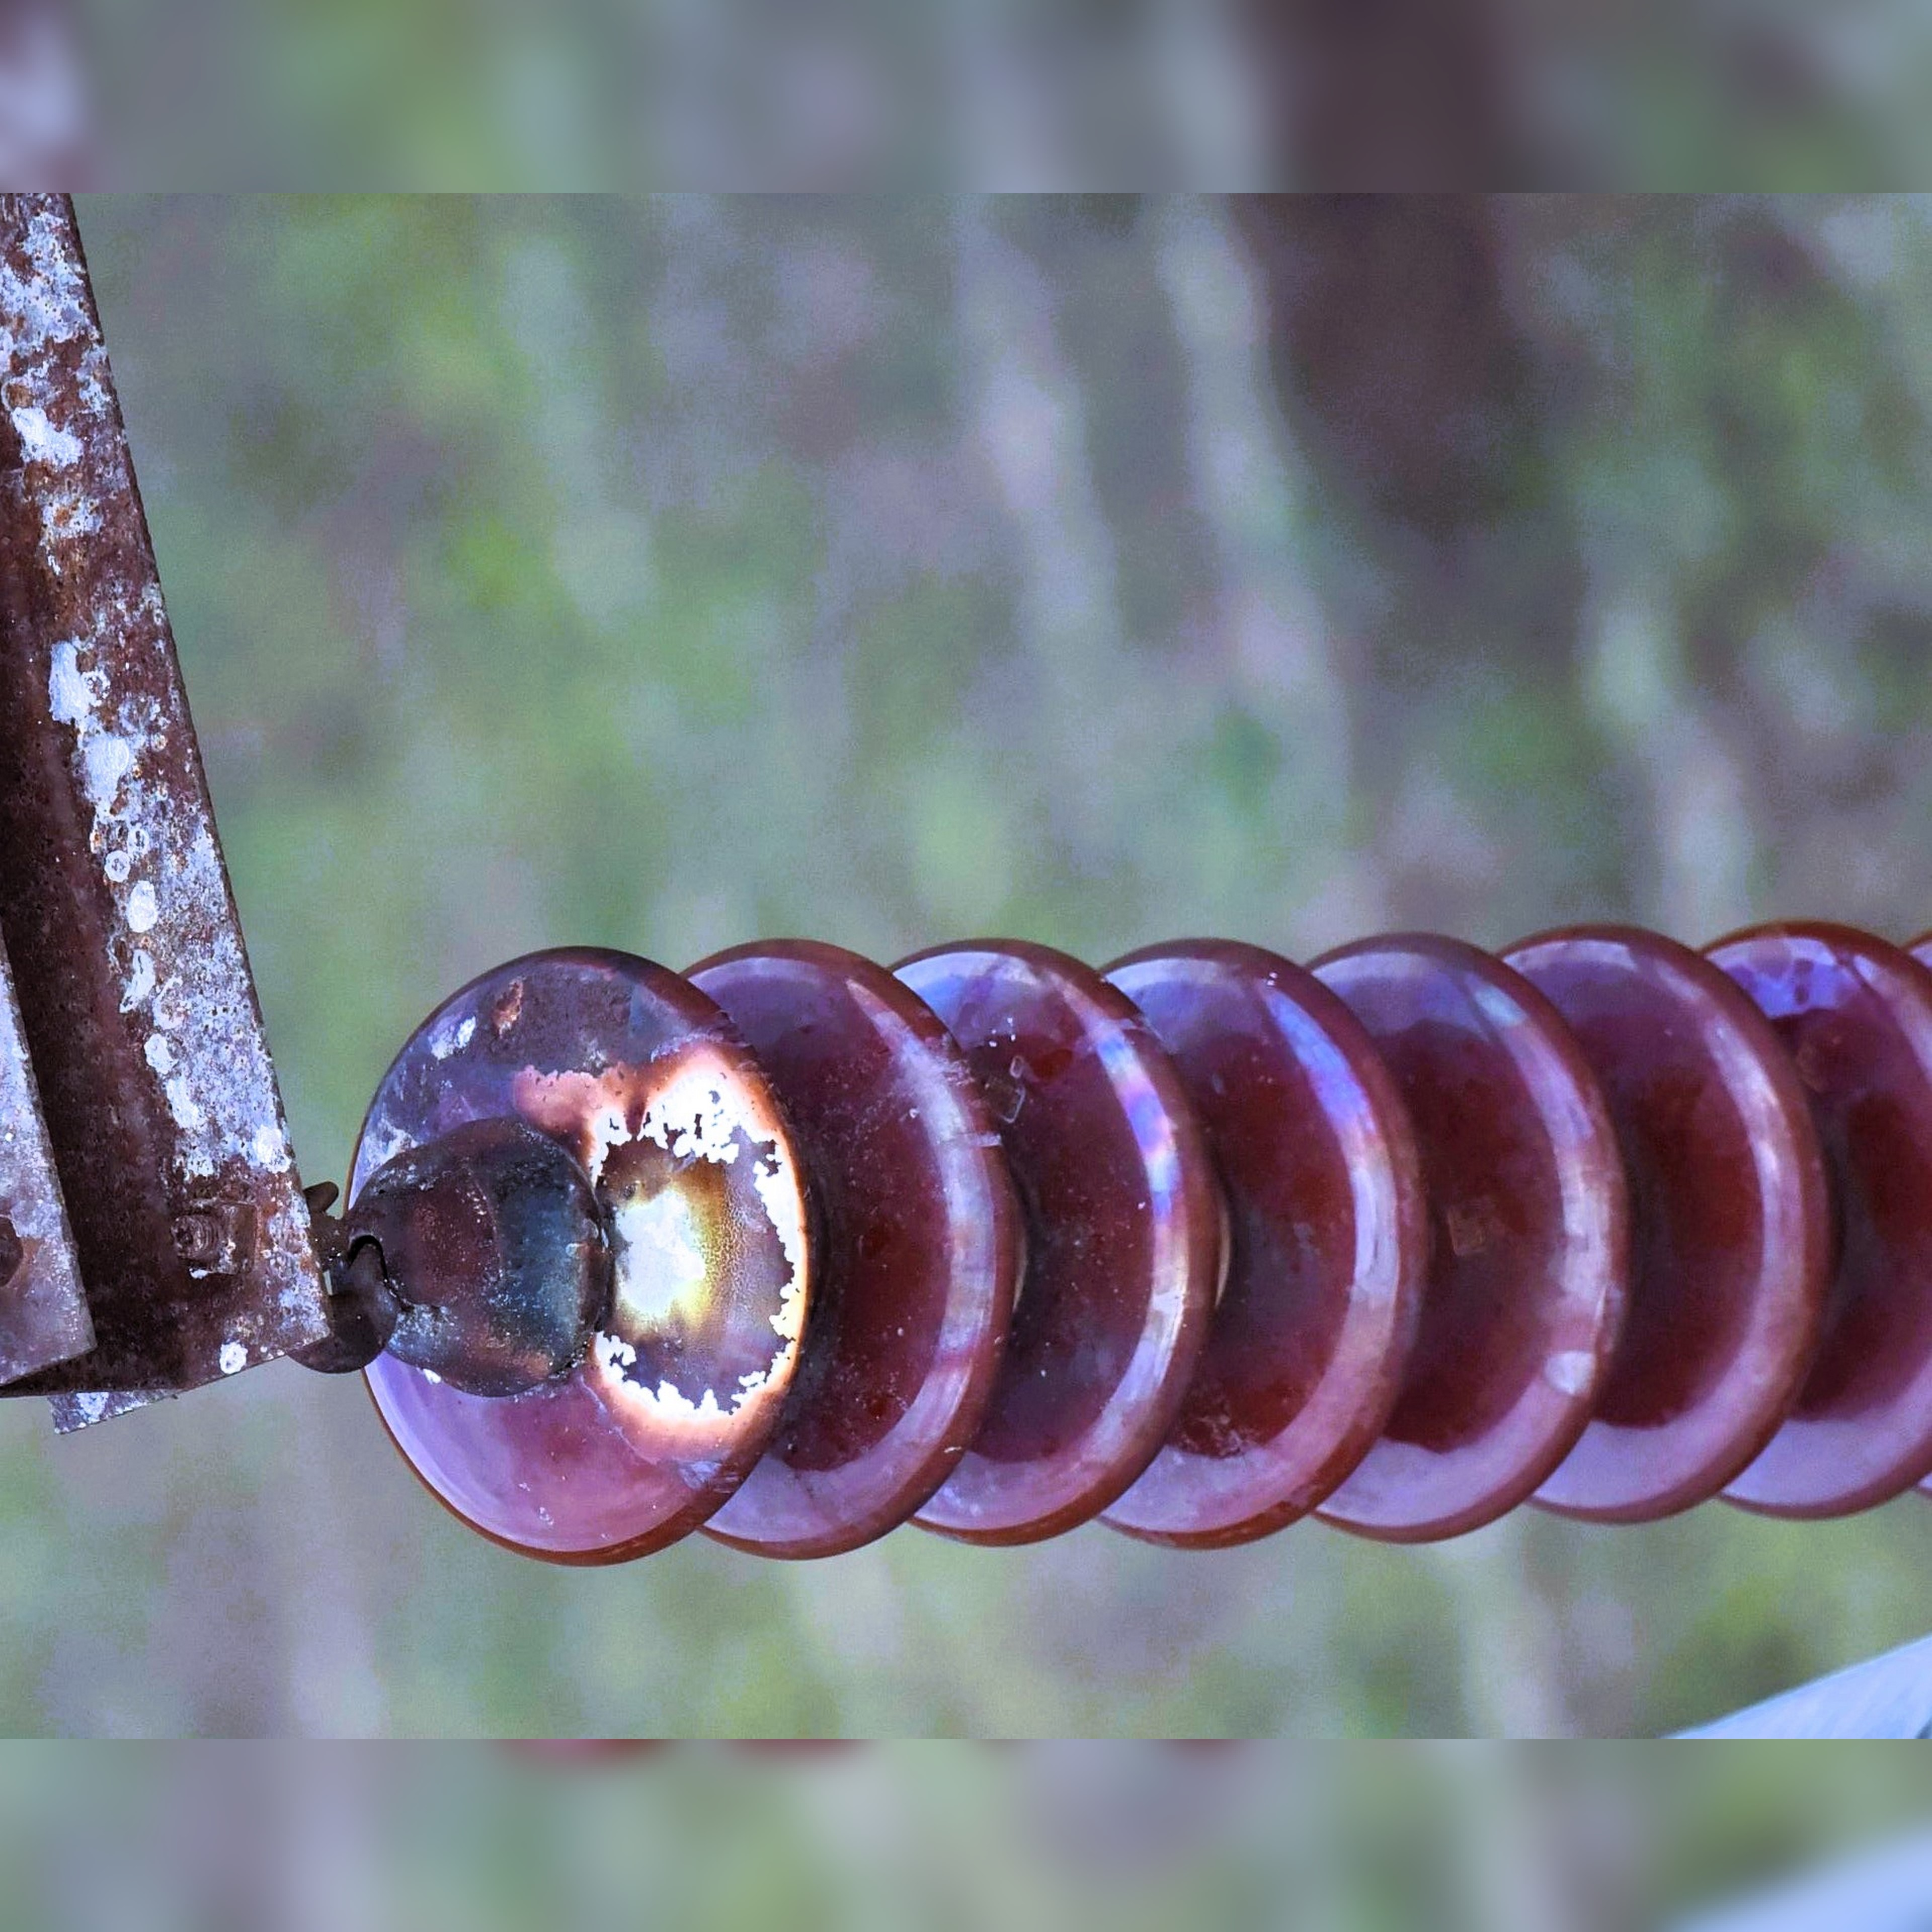Insulator flashover: (329, 938, 826, 1578)
